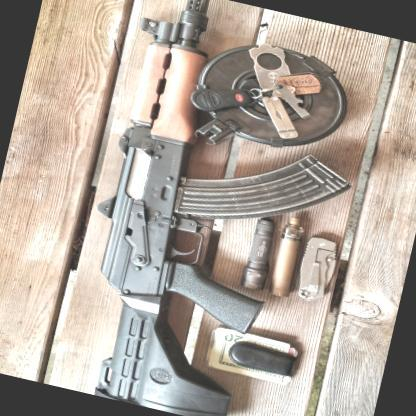rifle: (37, 0, 395, 416)
